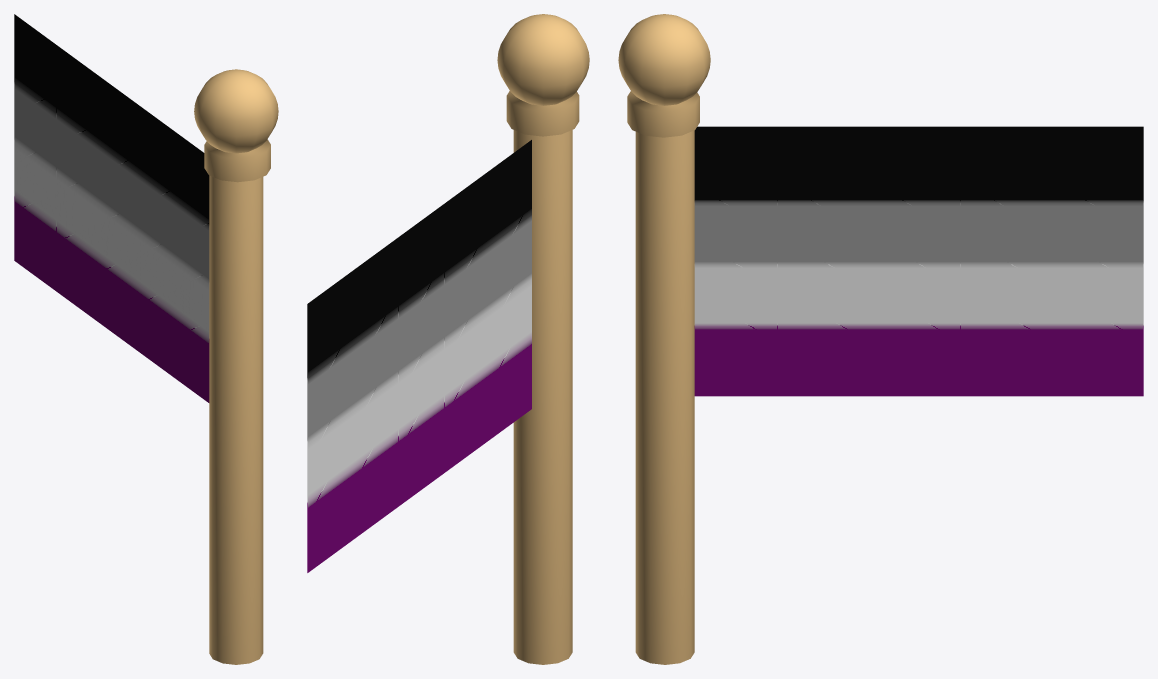
Rendered from asexual_flag.glb.
3 views of the same model, side by side, from view 1: azimuth 30°, elevation 25°; view 2: azimuth 150°, elevation 25°; view 3: azimuth 270°, elevation 25° (orthographic). The views are drawn at different scales.
Parts seen in each view (by area): view 1: Ace; view 2: Ace; view 3: Ace.
Boxes of the visible parts, bbox=[...] form: Ace: bbox=[14, 14, 278, 664]; Ace: bbox=[307, 14, 589, 664]; Ace: bbox=[618, 14, 1143, 664].
Size of the model in its own units: 0.4603 by 3.49 by 2.62.
2 materials, 1 textured.
